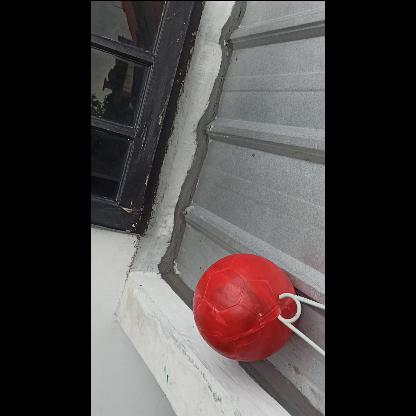red_ball: (192, 252, 298, 358)
